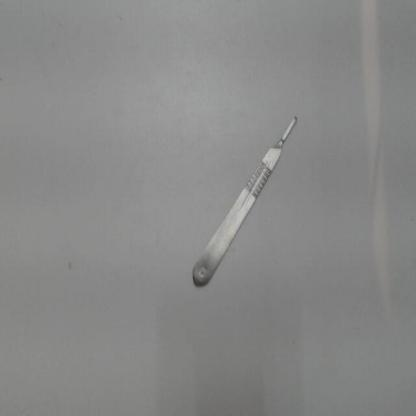No.3 BP Handle: (183, 98, 308, 302)
